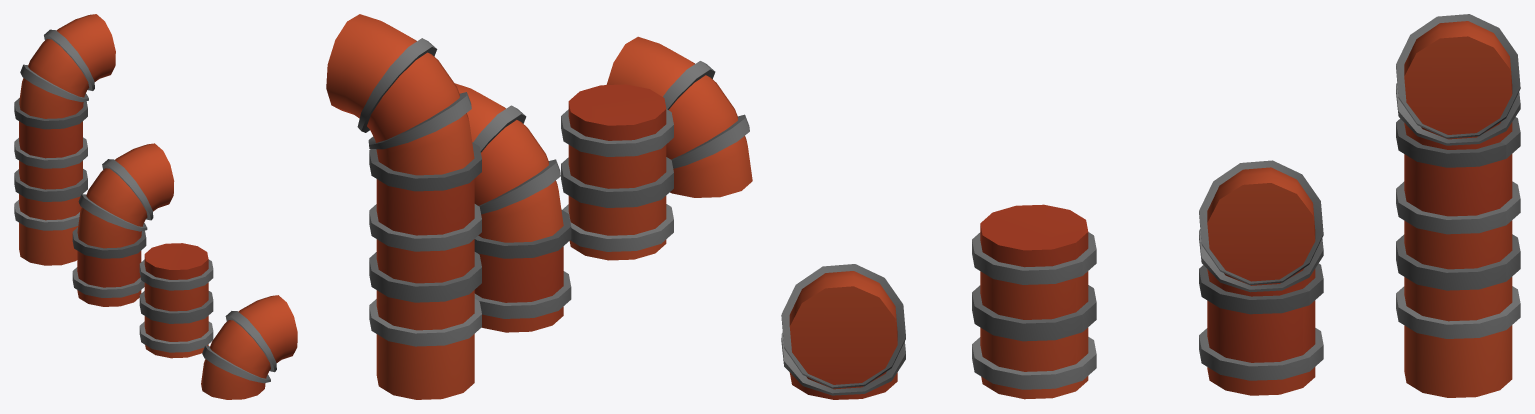
Rendered from Tuberias_Rojas.fbx.
3 views of the same model, side by side, from view 1: azimuth 30°, elevation 25°; view 2: azimuth 150°, elevation 25°; view 3: azimuth 270°, elevation 25° (orthographic). The views are drawn at different scales.
Parts seen in each view (by area): view 1: TuberiaRoja1, TuberiaRoja2, TuberiaRoja3, TuberiaRoja4; view 2: TuberiaRoja1, TuberiaRoja2, TuberiaRoja3, TuberiaRoja4; view 3: TuberiaRoja1, TuberiaRoja2, TuberiaRoja3, TuberiaRoja4.
Part boxes in pixels (box(x1,y1,x2,y2)): TuberiaRoja1: box(14, 14, 115, 265); TuberiaRoja2: box(72, 143, 174, 306); TuberiaRoja3: box(139, 243, 213, 358); TuberiaRoja4: box(201, 295, 297, 399); TuberiaRoja1: box(326, 14, 481, 399); TuberiaRoja2: box(454, 83, 571, 332); TuberiaRoja3: box(561, 84, 673, 260); TuberiaRoja4: box(606, 36, 752, 197); TuberiaRoja1: box(1396, 14, 1520, 397); TuberiaRoja2: box(1199, 160, 1323, 395); TuberiaRoja3: box(972, 204, 1096, 399); TuberiaRoja4: box(781, 264, 905, 399).
Bounding box in the file's own units: 19.44 × 51.47 × 90.59.
